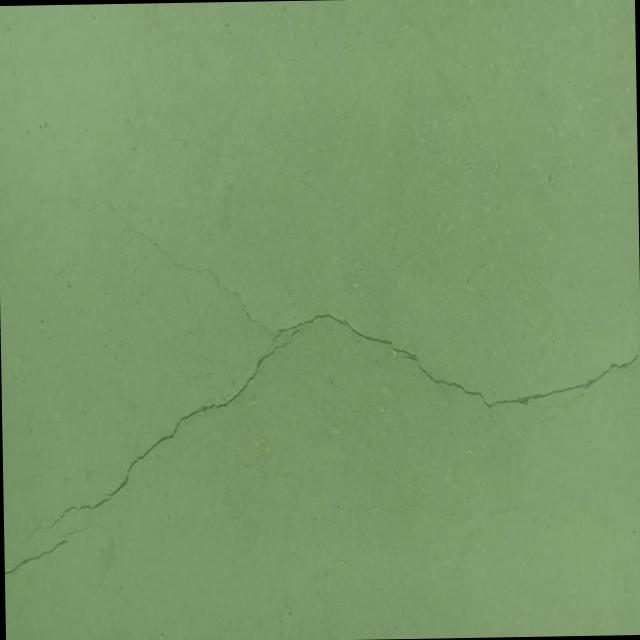crack: (5, 6, 640, 549), (4, 521, 110, 576)
